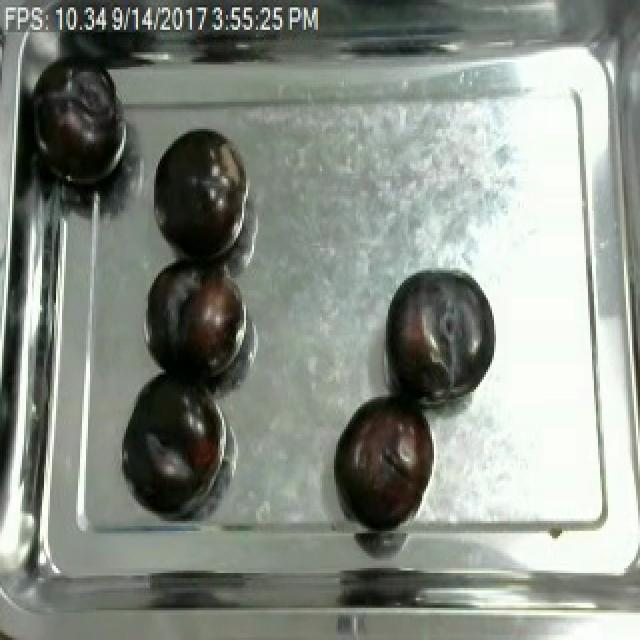Fruit: (380, 263, 498, 412), (116, 362, 228, 509), (146, 122, 250, 270), (330, 389, 438, 531), (138, 253, 246, 385), (32, 57, 132, 194)
